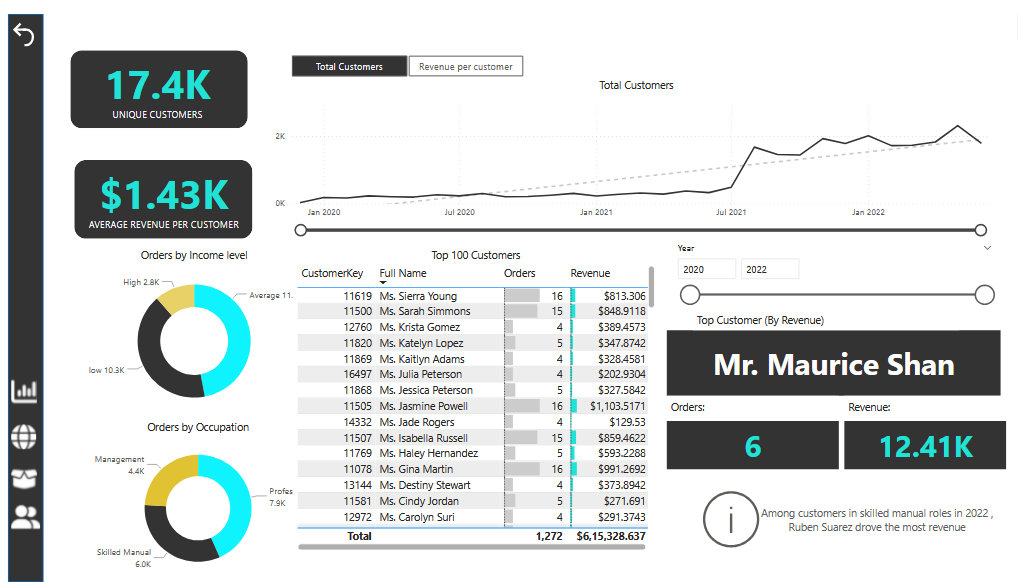

This screenshot's page, from the dashboard's own definition file:
{"tool":"powerbi","page":{"name":"Customer Detail","canvas":[1280,720],"ordinal":3},"visuals":[{"type":"shape","box":[0,0,45,720],"z":0},{"type":"shape","box":[84.5,185.3,225.2,99.3],"z":1000},{"type":"shape","box":[79.4,45.6,224.3,99.3],"z":2000},{"type":"card","fields":{"Values":["Measure Table.Total Customers"]},"box":[79.2,25.9,220.3,138.2],"z":3000},{"type":"card","fields":{"Values":["Measure Table.Average Revenue per customer"]},"box":[85,168.5,224.6,131],"z":4000},{"type":"lineChart","fields":{"Y":["Measure Table.Total Customers"],"Category":["Calendar Lookup.Date Hierarchy.Start of Year","Calendar Lookup.Date Hierarchy.Start of Month","Calendar Lookup.Date Hierarchy.Start of Quarter","Calendar Lookup.Date Hierarchy.Start of Week","Calendar Lookup.Date Hierarchy.Date"]},"box":[333.9,81.3,924.7,204.1],"z":5000},{"type":"donutChart","title":"Orders by Income level","fields":{"Category":["Customer Lookup.Income level"],"Y":["Measure Table.Total orders"]},"box":[78.5,296.8,315.4,218.3],"z":6000},{"type":"donutChart","title":"Orders by Occupation","fields":{"Y":["Measure Table.Total orders"],"Category":["Customer Lookup.Occupation"]},"box":[84.2,515.1,313.9,205.5],"z":7000},{"type":"tableEx","title":"Top 100 Customers","fields":{"Values":["Customer Lookup.CustomerKey","Customer Lookup.Full Name","Measure Table.Total orders","Measure Table.Total Revenue"]},"box":[361,296.8,463.8,388.1],"z":8000},{"type":"card","fields":{"Values":["Customer Lookup.Full Name (Customer Detail)"]},"box":[835.2,400.6,422.8,83.8],"z":9000},{"type":"textbox","box":[867.9,374.4,337.7,26.2],"z":10000},{"type":"card","fields":{"Values":["Measure Table.Total Revenue (Customer Detail)"]},"box":[1060.4,515.8,204.2,61.5],"z":11000},{"type":"card","fields":{"Values":["Measure Table.Total Orders (Customer Detail)"]},"box":[835.2,515.8,217.3,61.5],"z":12000},{"type":"textbox","box":[835.2,484.4,217.3,31.4],"z":13000},{"type":"textbox","box":[1060.4,484.4,204.2,31.4],"z":14000},{"type":"slicer","fields":{"Values":["Calendar Lookup.Year"]},"box":[835.5,285.5,423.4,88.6],"z":15000},{"type":"actionButton","box":[872.1,596.4,392.4,88.6],"z":16000},{"type":"actionButton","box":[0,5.7,45.7,40],"z":17000},{"type":"actionButton","box":[0,458.2,44.5,40.6],"z":18000},{"type":"actionButton","box":[0,569.5,44.5,40.6],"z":19000},{"type":"actionButton","box":[0,515.8,44.5,40.6],"z":20000},{"type":"actionButton","box":[0,600.9,44.5,72],"z":21000},{"type":"slicer","fields":{"Values":["Customer Metric Selection.Customer Metric Selection"]},"box":[333.8,45.8,343,35.3],"z":21501}]}

Visuals, with their boxes on the page's 1280x720 design canvas (x1, y1, x2, y2). These are canvas units, not pixel positions in the 1026x582 screenshot, which may show the page scaled, cropped or inside an application window:
shape: region(0, 0, 45, 720)
shape: region(84, 185, 310, 285)
shape: region(79, 46, 304, 145)
card - Measure Table.Total Customers: region(79, 26, 300, 164)
card - Measure Table.Average Revenue per customer: region(85, 168, 310, 300)
lineChart - Measure Table.Total Customers x Calendar Lookup.Date Hierarchy.Start of Year: region(334, 81, 1259, 285)
"Orders by Income level" donutChart: region(78, 297, 394, 515)
"Orders by Occupation" donutChart: region(84, 515, 398, 721)
"Top 100 Customers" tableEx: region(361, 297, 825, 685)
card - Customer Lookup.Full Name (Customer Detail): region(835, 401, 1258, 484)
textbox: region(868, 374, 1206, 401)
card - Measure Table.Total Revenue (Customer Detail): region(1060, 516, 1265, 577)
card - Measure Table.Total Orders (Customer Detail): region(835, 516, 1052, 577)
textbox: region(835, 484, 1052, 516)
textbox: region(1060, 484, 1265, 516)
slicer - Calendar Lookup.Year: region(836, 286, 1259, 374)
actionButton: region(872, 596, 1264, 685)
actionButton: region(0, 6, 46, 46)
actionButton: region(0, 458, 44, 499)
actionButton: region(0, 570, 44, 610)
actionButton: region(0, 516, 44, 556)
actionButton: region(0, 601, 44, 673)
slicer - Customer Metric Selection.Customer Metric Selection: region(334, 46, 677, 81)
